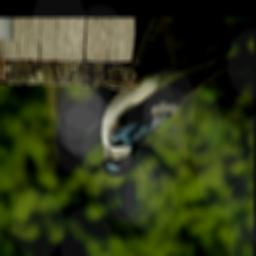Swallow: (98, 44, 239, 177)
